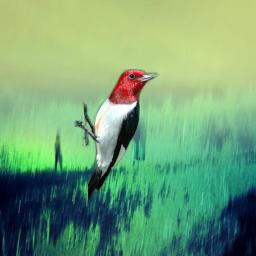Woodpecker: (73, 69, 160, 207)
